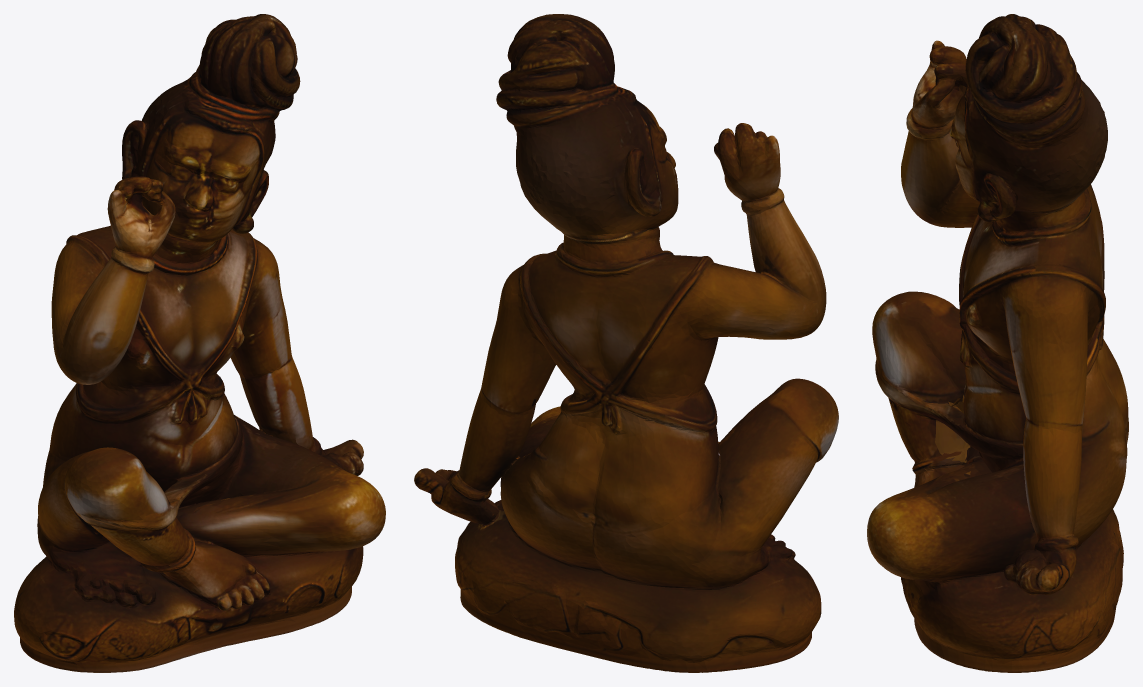
3 views of the same model, side by side, from view 1: azimuth 30°, elevation 25°; view 2: azimuth 150°, elevation 25°; view 3: azimuth 270°, elevation 25° (orthographic). The views are drawn at different scales.
Visible parts, largest first — view 1: textured_mesh; view 2: textured_mesh; view 3: textured_mesh.
Boxes of the visible parts, bbox=[...] form: textured_mesh: bbox=[14, 14, 385, 672]; textured_mesh: bbox=[414, 14, 838, 672]; textured_mesh: bbox=[867, 14, 1128, 672].
Size of the model in its own units: 1.32 by 1.99 by 0.7774.
1 material, 1 textured.
